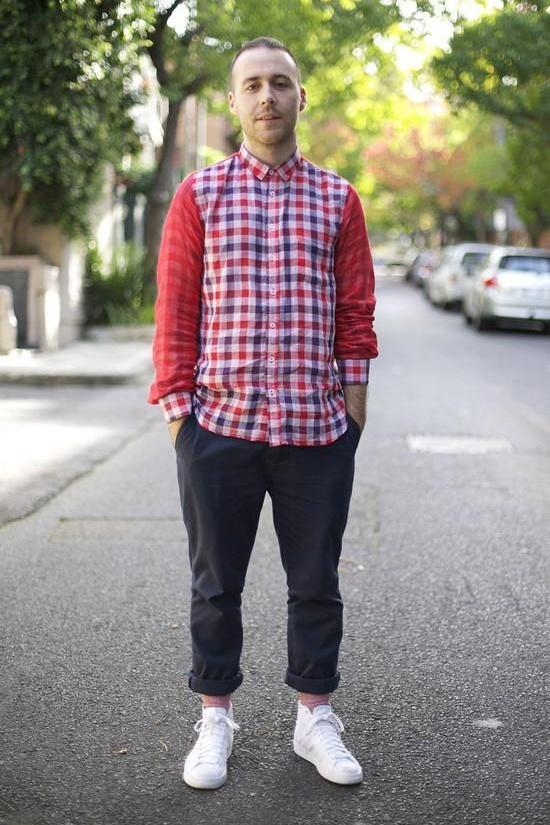pants: (176, 392, 364, 692)
shirt: (149, 142, 379, 445)
